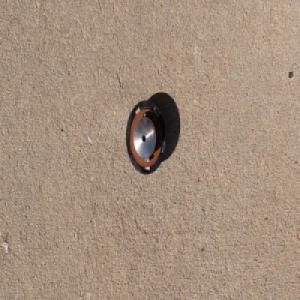FuelCap: (124, 98, 167, 176)
